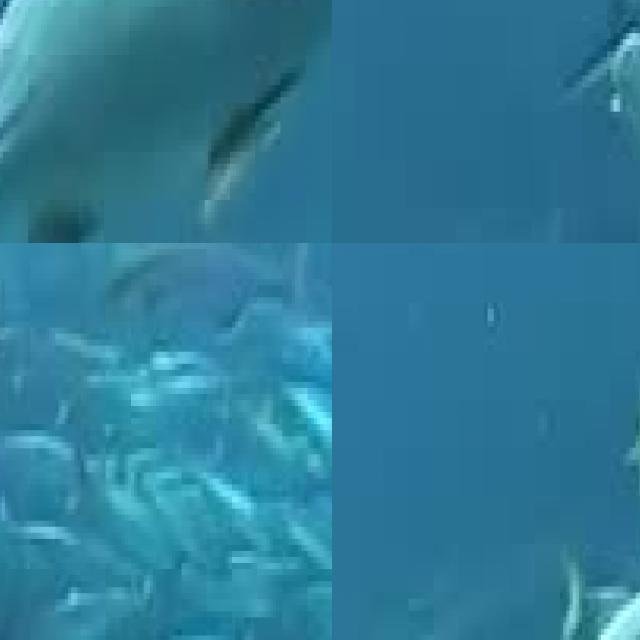fish: (0, 0, 332, 243), (468, 568, 640, 640)
